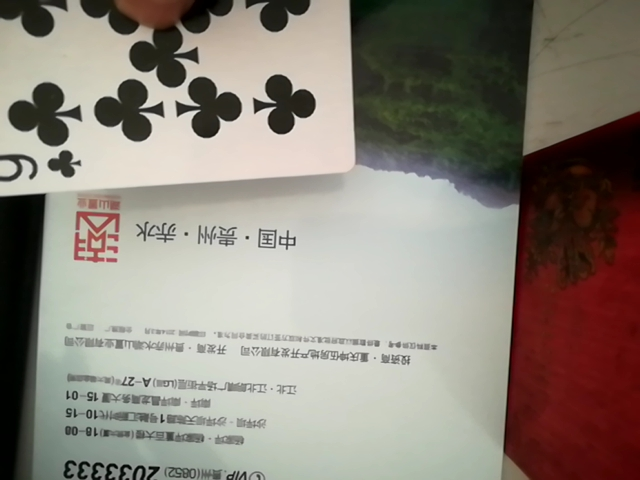mh 9: (0, 0, 358, 201)
